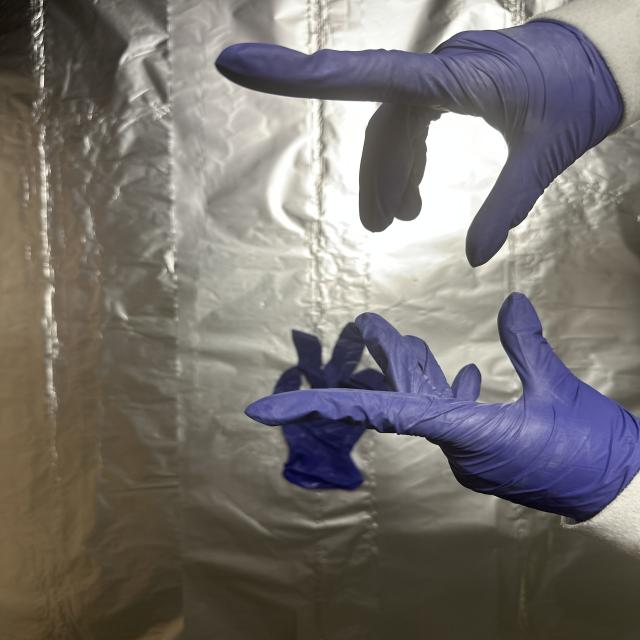gloves_contaminated: (216, 0, 640, 267), (246, 293, 640, 555)
